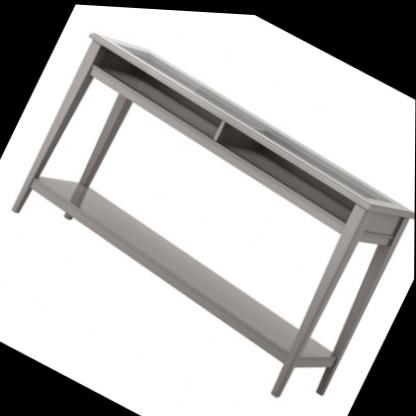Table: (0, 9, 416, 416)
